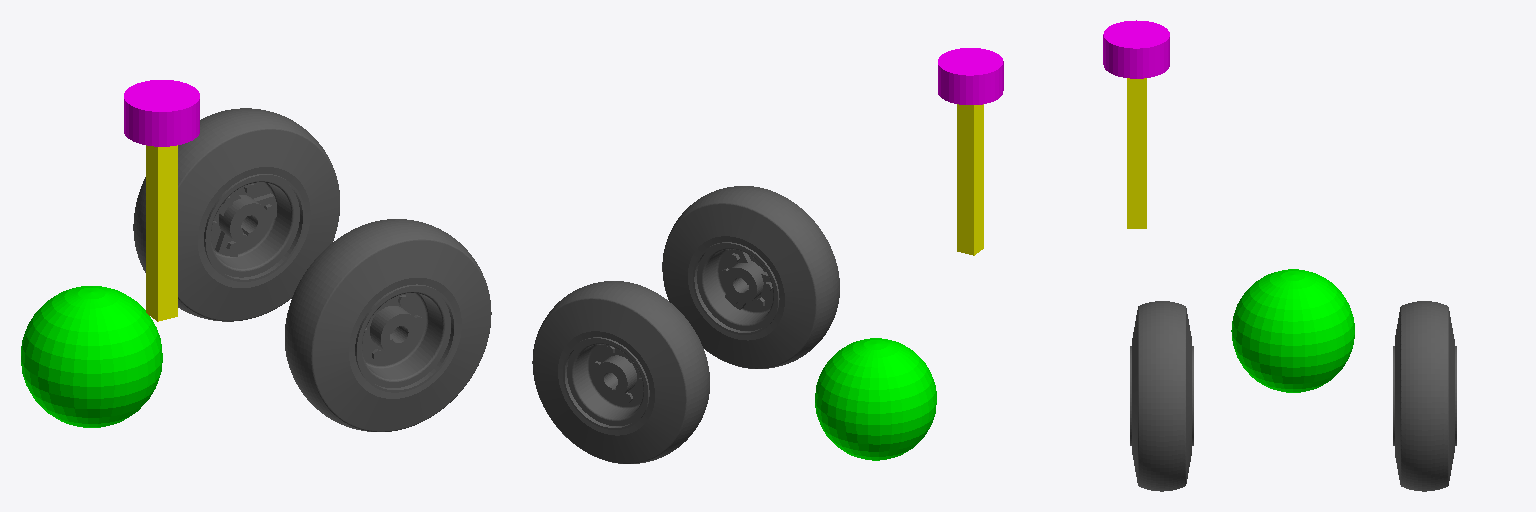
URDF robot description (step2urdf):
<?xml version="1.0" ?>
<!-- =================================================================================== -->
<!-- |    This document was autogenerated by xacro from step2urdf.xacro                | -->
<!-- |    EDITING THIS FILE BY HAND IS NOT RECOMMENDED                                 | -->
<!-- =================================================================================== -->
<robot name="step2urdf">
  <material name="silver_default">
    <color rgba="0.700 0.700 0.700 1.000"/>
  </material>
  <material name="opaque202209238">
    <color rgba="0.792156862745098 0.8196078431372549 0.9333333333333333 1.0"/>
  </material>
  <material name="black">
    <color rgba="0.4 0.4 0.4 1.0"/>
  </material>




  <transmission name="Wheel_L_tran">
    <type>transmission_interface/SimpleTransmission</type>
    <joint name="Wheel_L">
      <hardwareInterface>hardware_interface/VelocityJointInterface</hardwareInterface>
    </joint>
    <actuator name="Wheel_L_actr">
      <hardwareInterface>hardware_interface/VelocityJointInterface</hardwareInterface>
      <mechanicalReduction>1</mechanicalReduction>
    </actuator>
  </transmission>



  <transmission name="Wheel_R_tran">
    <type>transmission_interface/SimpleTransmission</type>
    <joint name="Wheel_R">
      <hardwareInterface>hardware_interface/VelocityJointInterface</hardwareInterface>
    </joint>
    <actuator name="Wheel_R_actr">
      <hardwareInterface>hardware_interface/VelocityJointInterface</hardwareInterface>
      <mechanicalReduction>1</mechanicalReduction>
    </actuator>
  </transmission>



  <gazebo>
    <plugin filename="libgazebo_ros_control.so" name="control"/>
  </gazebo>

  <gazebo>
    <plugin name="gazebo_ros_control" filename="libgazebo_ros_control.so">
      <robotNamespace>/dtw_robot</robotNamespace>
      <robotSimType>gazebo_ros_control/DefaultRobotHWSim</robotSimType>
      <legacyModeNS>true</legacyModeNS>
    </plugin>
  </gazebo>

  <gazebo reference="body">
    <material>Gazebo/Silver</material>
    <mu1>0.2</mu1>
    <mu2>0.2</mu2>
    <selfCollide>true</selfCollide>
    <gravity>true</gravity>
  </gazebo>
  <gazebo reference="Link_1_v1_1">
    <material>Gazebo/Silver</material>
    <mu1>0.2</mu1>
    <mu2>0.2</mu2>
    <selfCollide>true</selfCollide>
  </gazebo>
  <gazebo reference="Link_2_v1_1">
    <material>Gazebo/Silver</material>
    <mu1>0.2</mu1>
    <mu2>0.2</mu2>
    <selfCollide>true</selfCollide>
  </gazebo>
	<gazebo reference="caster">
		<mu1>0.0</mu1>
		<mu2>0.0</mu2>
		<material>Gazebo/Green</material>
	</gazebo>
	<gazebo reference="lidar_base">
		<mu1>0.0</mu1>
		<mu2>0.0</mu2>
		<material>Gazebo/Yellow</material>
	</gazebo>

	<gazebo reference="lidar_link">
		<mu1>0.0</mu1>
		<mu2>0.0</mu2>
		<material>Gazebo/Purple</material>
	</gazebo>



<!--機能的な部分をロードするための追加要素-->
  <gazebo>
    <!--差動駆動プラグインを指定-->
    <plugin name="differential_drive_controller" filename="libgazebo_ros_diff_drive.so">
      <!--left_wheel_jointとright_wheel_jointをそれぞれ左関節右関節に指定-->
      <leftJoint>Link_1_v1_1</leftJoint>
      <rightJoint>Link_2_v1_1</rightJoint>
      <!--台座であるbase_linkをrobotBaseFrameに指定-->
      <robotBaseFrame>body</robotBaseFrame>
      <!--トレッドを0.25m，車輪直径0.07mとする-->
      <wheelSeparation>0.400</wheelSeparation>
      <wheelDiameter>0.286</wheelDiameter>
      <!--車輪の状態を配信する設定にする-->
      <publishWheelJointState>true</publishWheelJointState>
    </plugin>

    <!--関節状態配信プラグインを指定-->

  </gazebo>

  <!--レーザセンサを定義する-->
  <gazebo reference="lidar_link">
    <sensor type="ray" name="rpLiDAR">
    <!--sensor type="gpu_ray" name="hokuyo"-->
      <pose>0 0 0 0 0 0 </pose>
      <visualize>true</visualize>
      <update_rate>40</update_rate>
      <ray>
        <scan>
          <horizontal>
            <samples>720</samples>
            <resolution>1</resolution>
            <min_angle>-3.14</min_angle>
            <max_angle>3.14</max_angle>
          </horizontal>
        </scan>
        <range>
          <min>0.10</min>
          <max>6.0</max>
          <resolution>0.01</resolution>
        </range>
        <noise>
          <type>gaussian</type>
          <!-- Noise parameters based on published spec for Hokuyo laser
               achieving "+-30mm" accuracy at range < 10m.  A mean of 0.0m and
               stddev of 0.01m will put 99.7% of samples within 0.03m of the true
               reading. -->
          <mean>0.0</mean>
          <stddev>0.01</stddev>
        </noise>
      </ray>
      <!--レーザセンサのためのプラグインを指定-->
      <plugin name="laser" filename="libgazebo_ros_laser.so">
      <!--plugin name="gpu_laser" filename="libgazebo_ros_gpu_laser.so"-->
        <topicName>/scan</topicName>
        <frameName>lidar_link</frameName>
      </plugin>
    </sensor>
  </gazebo>




  <link name ="base_link">
  </link>

  <link name="body">
    <inertial>
      <origin rpy="0 0 0" xyz="-0.0797893829175013 0.021321971265732098 0.19796992913112318"/>
      <mass value="44.96014807733396"/>
      <inertia ixx="0.70697" ixy="0.086557" ixz="0.093364" iyy="0.773527" iyz="0.015459" izz="1.085054"/>
    </inertial>
    <visual>
      <origin rpy="0 0 0" xyz="0 0 0"/>
      <geometry>
        <mesh filename="package://step2urdf_description/meshes/base_link.stl" scale="0.001 0.001 0.001"/>
      </geometry>
      <material name="opaque202209238"/>
    </visual>
    <collision>
      <origin rpy="0 0 0" xyz="0 0 0"/>
      <geometry>
        <mesh filename="package://step2urdf_description/meshes/base_link.stl" scale="0.001 0.001 0.001"/>
      </geometry>
    </collision>
  </link>



  <link name="Link_1_v1_1">
    <inertial>
      <origin rpy="0 0 0" xyz="5.904390531910397e-06 0.031875191382541246 2.7755575615628914e-17"/>
      <mass value="34.12618496286369"/>
      <inertia ixx="0.201769" ixy="-0.0" ixz="-0.0" iyy="0.36795" iyz="0.0" izz="0.201766"/>
    </inertial>
    <visual>
      <origin rpy="0 0 0" xyz="-0.0 0.2287 -0.143"/>
      <geometry>
        <mesh filename="package://step2urdf_description/meshes/Link_1_v1_1.stl" scale="0.001 0.001 0.001"/>
      </geometry>
      <material name="black"/>
    </visual>
    <collision>
      <origin rpy="0 0 0" xyz="-0.0 0.2287 -0.143"/>
      <geometry>
        <mesh filename="package://step2urdf_description/meshes/Link_1_v1_1.stl" scale="0.001 0.001 0.001"/>
      </geometry>
    </collision>
  </link>



  <link name="Link_2_v1_1">
    <inertial>
      <origin rpy="0 0 0" xyz="2.3801841665793685e-06 -0.03187519138254108 5.403383278868024e-06"/>
      <mass value="34.12618496286369"/>
      <inertia ixx="0.201766" ixy="0.0" ixz="1e-06" iyy="0.36795" iyz="0.0" izz="0.201768"/>
    </inertial>
    <visual>
      <origin rpy="0 0 0" xyz="0.0 -0.2287 -0.143"/>
      <geometry>
        <mesh filename="package://step2urdf_description/meshes/Link_2_v1_1.stl" scale="0.001 0.001 0.001"/>
      </geometry>
      <material name="black"/>
    </visual>
    <collision>
      <origin rpy="0 0 0" xyz="0.0 -0.2287 -0.143"/>
      <geometry>
        <mesh filename="package://step2urdf_description/meshes/Link_2_v1_1.stl" scale="0.001 0.001 0.001"/>
      </geometry>
    </collision>
  </link>

  <!-- キャスターの作成 -->
  <link name="caster">
    <visual>
      <geometry>
        <sphere radius="0.093"/>
      </geometry>
      <origin xyz="0 0 0" rpy="0 0 0"/>
      <material name="black">
        <color rgba="0.0 1.0 0.0 1.0"/>
      </material>
    </visual>
    <collision>
      <origin rpy="0 0 0" xyz="0 0 0.0"/>
      <geometry>
        <sphere radius="0.093"/>
      </geometry>
    </collision>
    <!--慣性-->
    <inertial>
        <mass value="0.5"/>
        <inertia ixx="3.000e-4" iyy="3.000e-4" izz="3.000e-4" ixy="0" ixz="0" iyz="0"/>
    </inertial>
  </link>

  <!-- Lidar台の作成 -->
  <link name="lidar_base">
    <visual>
      <geometry>
        <box size="0.03 0.03 0.27"/>
      </geometry>
      <origin xyz="0 0 0" rpy="0 0 0"/>
      <material name="opaque202209238">
        <color rgba="1.0 1.0 0.0 1.0"/>
      </material>
    </visual>
    <collision>
      <origin rpy="0 0 0" xyz="0 0 0.0"/>
      <geometry>
        <box size="0.1 0.1 0.1"/>
      </geometry>
    </collision>
    <!--慣性-->
    <inertial>
        <mass value="0.15"/>
        <inertia ixx="0.25" iyy="0.25" izz="0.25" ixy="0" ixz="0" iyz="0"/>
    </inertial>
  </link>

  <!-- Lidarの作成 -->
  <link name="lidar_link">
    <visual>
      <geometry>
        <cylinder radius="0.05" length="0.05"/>
      </geometry>
      <origin xyz="0 0 0" rpy="0 0 0"/>
      <material name="purple">
        <color rgba="1.0 0.0 1.0 1.0"/>
      </material>
    </visual>
    <collision>
      <origin rpy="0 0 0" xyz="0 0 0.0"/>
      <geometry>
        <cylinder radius="0.05" length="0.05"/>
      </geometry>
    </collision>
    <!--慣性-->
    <inertial>
        <mass value="0.15"/>
        <inertia ixx="0.125" iyy="0.125" izz="0.188" ixy="0" ixz="0" iyz="0"/>
    </inertial>
  </link>


  <joint name="base_joint" type="fixed">
    <origin rpy="0 0 0" xyz="0 0 0"/>
    <parent link="base_link"/>
    <child link="body"/>
  </joint>


  <joint name="Wheel_L_joint" type="continuous">
    <origin rpy="0 0 0" xyz="0.0 -0.2287 0.143"/>
    <parent link="body"/>
    <child link="Link_1_v1_1"/>
    <axis xyz="0.0 -1.0 0.0"/>
    <limit velocity="12.0" effort="0.4" />
    <dynamics damping="0.1"/>
  </joint>



  <joint name="Wheel_R_joint" type="continuous">
    <origin rpy="0 0 0" xyz="0.0 0.2287 0.143"/>
    <parent link="body"/>
    <child link="Link_2_v1_1"/>
    <axis xyz="0.0 -1.0 -0.0"/>
    <limit velocity="12.0" effort="0.4" />
    <dynamics damping="0.1"/>
  </joint>

	<joint name="caster_joint" type="fixed">
    <origin xyz="-0.332 0 0.096" rpy="0 0 0"/>
    <parent link="body"/>
    <child link="caster"/>
	</joint>

	<joint name="lidar_base_joint" type="fixed">
    <origin xyz="-0.362 -0.235 0.393" rpy="0 0 0"/>
    <parent link="body"/>
    <child link="lidar_base"/>
	</joint>

	<joint name="lidar_joint" type="fixed">
    <origin xyz="0.0 0.0 0.155" rpy="0 0 0"/>
    <parent link="lidar_base"/>
    <child link="lidar_link"/>
	</joint>



</robot>

--- Facts derived from the render (not from the file) ---
3 views of the same robot in one strip: view 1: azimuth 30°, elevation 25°; view 2: azimuth 150°, elevation 25°; view 3: azimuth 270°, elevation 25° (orthographic).
Model step2urdf with 7 links and 6 joints (2 continuous, 4 fixed), rooted at base_link, posed all joints at 0.
Visible links, largest first — view 1: Link_1_v1_1, Link_2_v1_1, caster, lidar_base, lidar_link; view 2: Link_2_v1_1, Link_1_v1_1, caster, lidar_base, lidar_link; view 3: caster, Link_1_v1_1, Link_2_v1_1, lidar_link, lidar_base.
Boxes of the visible links, x1,y1,x2,y2 form: Link_1_v1_1: (285,219,491,431); Link_2_v1_1: (133,108,339,321); caster: (21,286,162,427); lidar_base: (146,145,177,321); lidar_link: (124,80,199,146); Link_2_v1_1: (532,281,709,463); Link_1_v1_1: (662,186,839,368); caster: (815,338,936,460); lidar_base: (957,104,983,255); lidar_link: (938,48,1003,104); caster: (1231,269,1354,392); Link_1_v1_1: (1130,301,1193,491); Link_2_v1_1: (1393,301,1456,491); lidar_link: (1103,20,1169,78); lidar_base: (1127,78,1146,228).
Bounding box of the posed robot: 0.5679 × 0.5299 × 0.5729 m (x, y, z).
2 mesh visuals loaded from 3 distinct referenced files (2 binary STL); not drawn: 1 (reference not matched to a file when rendering).
